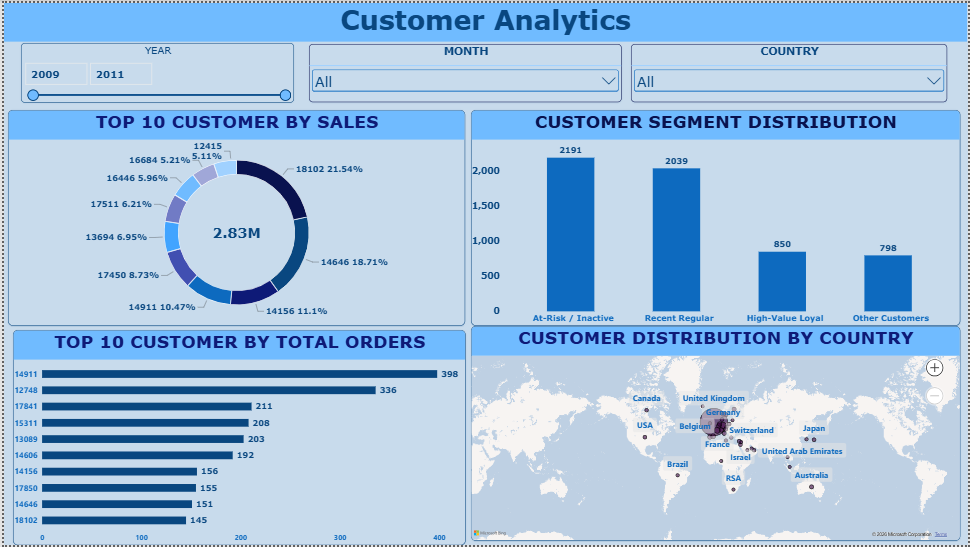

The page's visual inventory and layout, read from the dashboard file:
{"tool":"powerbi","page":{"name":"Customer Analytics","canvas":[1920,1080],"ordinal":3},"visuals":[{"type":"textbox","box":[0,0,1919.1,76.6],"z":0},{"type":"donutChart","title":"TOP 10 CUSTOMER BY SALES","fields":{"Category":["CLEANED.Customer ID"],"Y":["Sum(CLEANED.TOTAL SALES)"]},"box":[8.9,213.3,911,430.2],"z":1000},{"type":"clusteredBarChart","title":"TOP 10 CUSTOMER BY TOTAL ORDERS","fields":{"Category":["CLEANED.Customer ID"],"Y":["CLEANED.Total Orders"]},"box":[17.8,651.1,902.2,428.9],"z":2000},{"type":"map","title":"CUSTOMER DISTRIBUTION BY COUNTRY","fields":{"Category":["CLEANED.Country"],"Size":["Count(CLEANED.Customer ID)"]},"box":[929.9,643.1,974.7,428],"z":3000},{"type":"slicer","title":"YEAR","fields":{"Values":["CLEANED.YEAR"]},"box":[32.9,79,544.4,118.5],"z":4000},{"type":"slicer","title":"MONTH","fields":{"Values":["CLEANED.MONTH"]},"box":[608,81.2,623.4,116.3],"z":5000},{"type":"slicer","title":"COUNTRY","fields":{"Values":["CLEANED.Country"]},"box":[1249,81.2,630,116.3],"z":6000},{"type":"clusteredColumnChart","title":"CUSTOMER SEGMENT DISTRIBUTION","fields":{"Category":["RFM Customer Table.Customer Segment"],"Y":["CountNonNull(RFM Customer Table.Customer ID)"]},"box":[929.9,212.9,974.7,430.2],"z":7000}]}

Visuals, with their boxes in screenshot pixels (x1, y1, x2, y2), scaled from the page's 1920x1080 canvas onto the 970x547 screenshot:
textbox: {"left": 0, "top": 0, "right": 969, "bottom": 39}
"TOP 10 CUSTOMER BY SALES" donutChart: {"left": 4, "top": 108, "right": 465, "bottom": 326}
"TOP 10 CUSTOMER BY TOTAL ORDERS" clusteredBarChart: {"left": 9, "top": 330, "right": 465, "bottom": 546}
"CUSTOMER DISTRIBUTION BY COUNTRY" map: {"left": 470, "top": 326, "right": 962, "bottom": 542}
"YEAR" slicer: {"left": 17, "top": 40, "right": 292, "bottom": 100}
"MONTH" slicer: {"left": 307, "top": 41, "right": 622, "bottom": 100}
"COUNTRY" slicer: {"left": 631, "top": 41, "right": 949, "bottom": 100}
"CUSTOMER SEGMENT DISTRIBUTION" clusteredColumnChart: {"left": 470, "top": 108, "right": 962, "bottom": 326}
